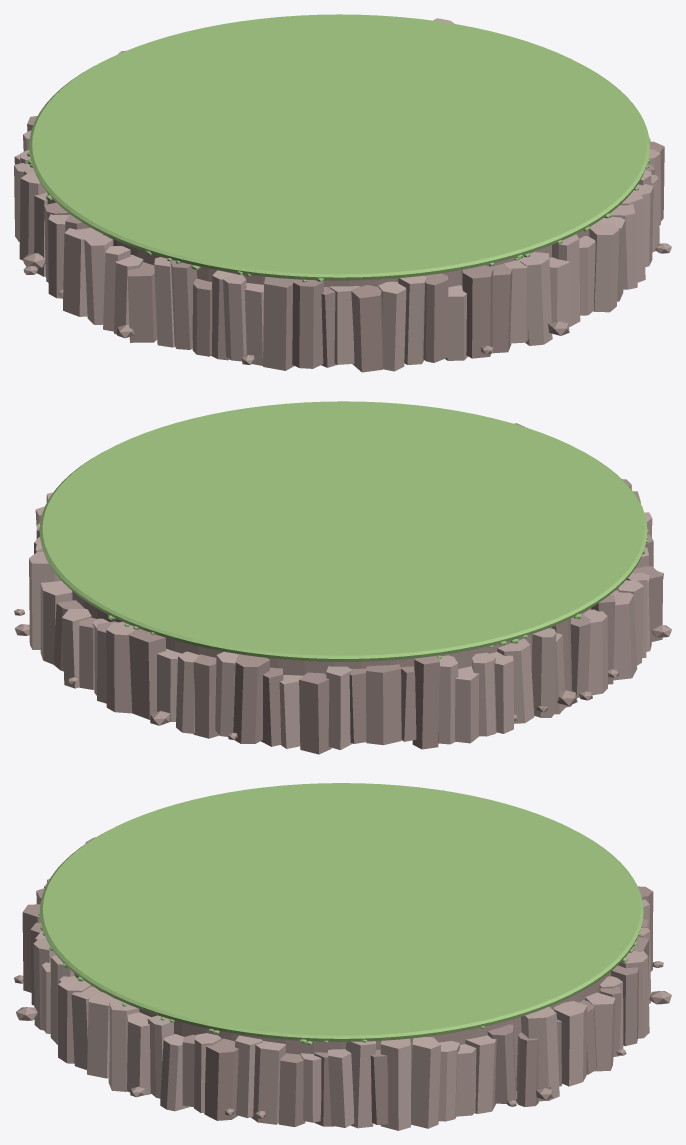
The model's file is HOB_Plateau_Flour.fbx.
The picture shows the model from 3 angles, top to bottom: view 1: azimuth 30°, elevation 25°; view 2: azimuth 150°, elevation 25°; view 3: azimuth 270°, elevation 25°; orthographic projection. The views are drawn at different scales.
Visible parts, largest first — view 1: HOB_Plateau_Flour; view 2: HOB_Plateau_Flour; view 3: HOB_Plateau_Flour.
Boxes of the visible parts, box(x1,y1,x2,y2) form: HOB_Plateau_Flour: box(14, 14, 671, 372); HOB_Plateau_Flour: box(14, 401, 671, 754); HOB_Plateau_Flour: box(14, 783, 671, 1130).
Bounding box in the file's own units: 6359 × 1047 × 6637.
